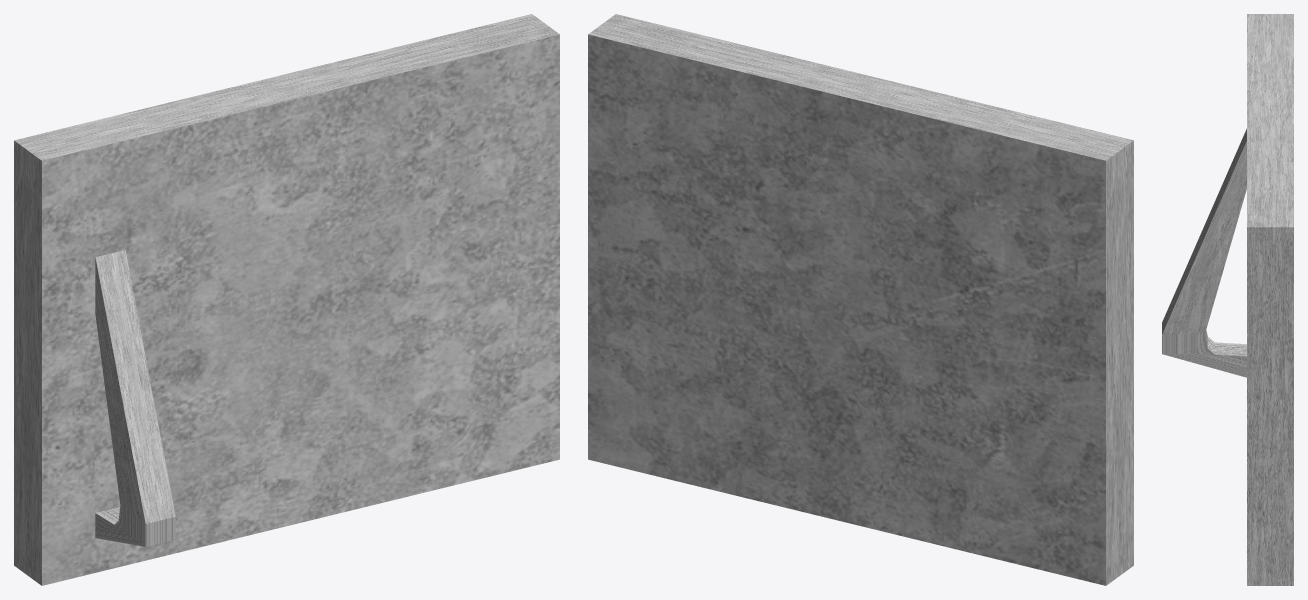
The model's file is pkulkasatas.fbx.
The picture shows the model from 3 angles, left to right: view 1: azimuth 30°, elevation 25°; view 2: azimuth 150°, elevation 25°; view 3: azimuth 270°, elevation 25°; orthographic projection. The views are drawn at different scales.
Visible parts, largest first — view 1: Cube.005; view 2: Cube.005; view 3: Cube.005.
Boxes of the visible parts, box(x1,y1,x2,y2) form: Cube.005: box(14, 14, 559, 585); Cube.005: box(588, 14, 1133, 585); Cube.005: box(1162, 14, 1293, 585).
Bounding box in the file's own units: 106 × 83.37 × 27.78.
